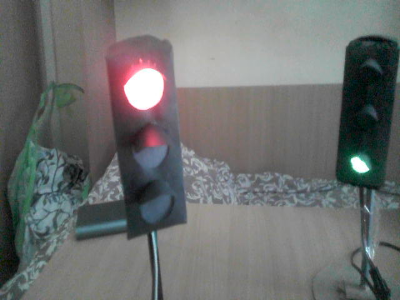trafficlight_green: (335, 46, 399, 179)
trafficlight_red: (114, 54, 187, 226)
